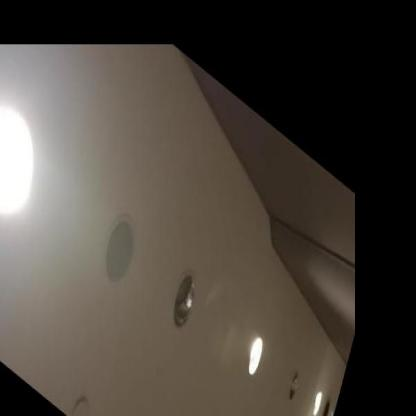light_off: (143, 237, 216, 360), (272, 347, 308, 415)
